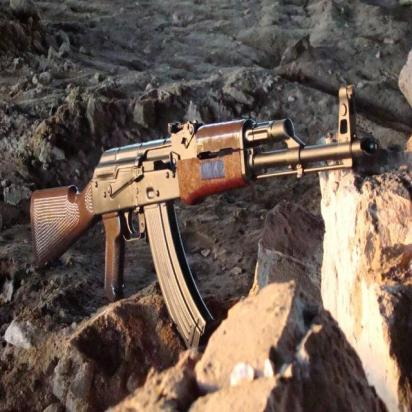Gun: (30, 83, 375, 262)
